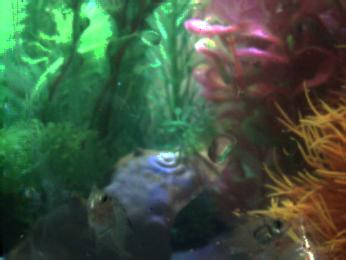X-ray fish: (87, 182, 131, 258), (215, 213, 292, 254)
